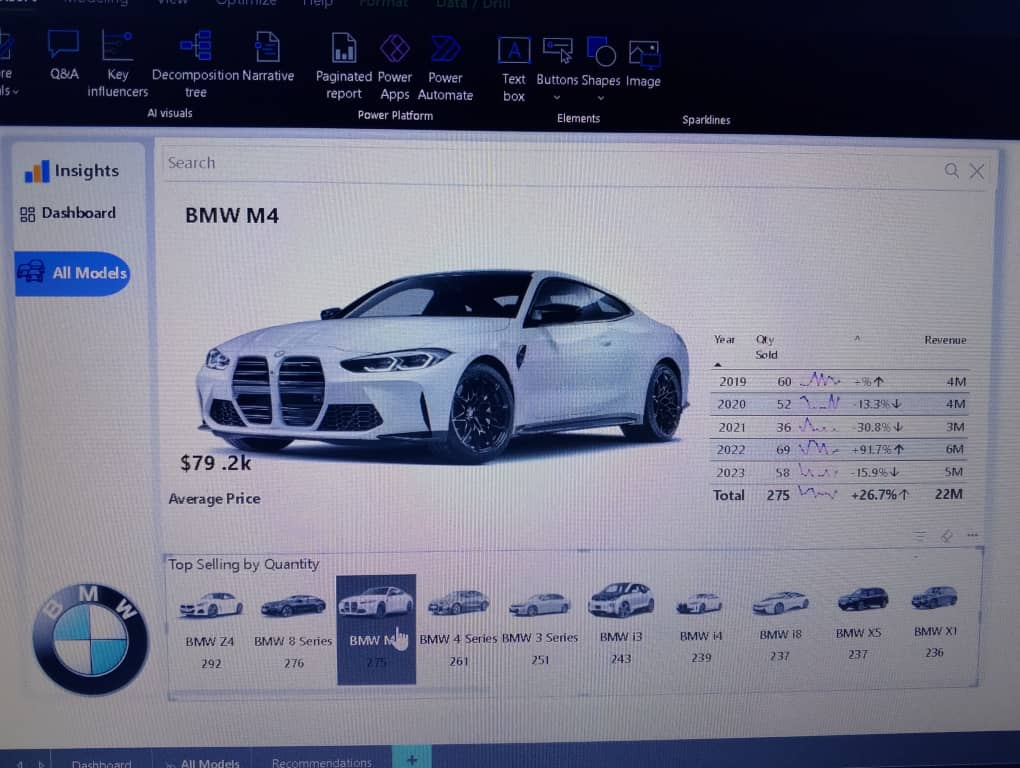

What the dashboard file says about the page in this screenshot:
{"tool":"powerbi","page":{"name":"All Models","canvas":[1280,720],"ordinal":1},"visuals":[{"type":"textSearchSlicerF85E2E78BE4A4D7D9F99ED75B5D71C85","fields":{"fields":["dimModel.Model"]},"box":[188.2,0,1082.9,50],"z":0},{"type":"advancedSlicerVisual","title":"Top Selling by Quantity ","fields":{"Values":["dimModel.Model"]},"box":[188.2,525,1082.9,194.7],"z":1000},{"type":"advancedSlicerVisual","title":"Top Selling by Quantity ","fields":{"Values":["dimModel.Model"]},"box":[188.2,50,720.7,475.3],"z":2000},{"type":"shape","box":[190.6,59.6,225.2,59.6],"z":3000},{"type":"shape","box":[159.2,385.5,194.7,40.8],"z":4000},{"type":"textbox","box":[190.8,435.5,152.6,47.4],"z":5000},{"type":"tableEx","title":"Qty Sold by Countries","fields":{"Values":["Calender.Year","All Measures.Quantity","All Measures.Quantity Sparkline","All Measures.Growth % with Arrow","All Measures.Revenue"]},"box":[883.9,190.6,387.2,334.8],"z":6000},{"type":"textbox","box":[52.6,150,127.6,57.9],"z":7000},{"type":"image","box":[9.2,140.8,43.4,50],"z":8000},{"type":"textbox","box":[40.8,75,118.4,42.1],"z":9000},{"type":"image","box":[9.2,80.3,39.5,31.6],"z":10000},{"type":"actionButton","box":[10.5,72.4,140.8,46.1],"z":11000},{"type":"actionButton","box":[0,140.8,159.2,50],"z":12000},{"type":"image","box":[0,555.3,180.3,164.5],"z":13000},{"type":"textbox","box":[58.4,20,115.8,46.1],"z":14000},{"type":"image","box":[17.6,20,50,43.4],"z":15000}]}

Visuals, with their boxes on the page's 1280x720 design canvas (x1, y1, x2, y2). These are canvas units, not pixel positions in the 1020x768 screenshot, which may show the page scaled, cropped or inside an application window:
textSearchSlicerF85E2E78BE4A4D7D9F99ED75B5D71C85 - dimModel.Model: {"x1": 188, "y1": 0, "x2": 1271, "y2": 50}
"Top Selling by Quantity " advancedSlicerVisual: {"x1": 188, "y1": 525, "x2": 1271, "y2": 720}
"Top Selling by Quantity " advancedSlicerVisual: {"x1": 188, "y1": 50, "x2": 909, "y2": 525}
shape: {"x1": 191, "y1": 60, "x2": 416, "y2": 119}
shape: {"x1": 159, "y1": 386, "x2": 354, "y2": 426}
textbox: {"x1": 191, "y1": 436, "x2": 343, "y2": 483}
"Qty Sold by Countries" tableEx: {"x1": 884, "y1": 191, "x2": 1271, "y2": 525}
textbox: {"x1": 53, "y1": 150, "x2": 180, "y2": 208}
image: {"x1": 9, "y1": 141, "x2": 53, "y2": 191}
textbox: {"x1": 41, "y1": 75, "x2": 159, "y2": 117}
image: {"x1": 9, "y1": 80, "x2": 49, "y2": 112}
actionButton: {"x1": 10, "y1": 72, "x2": 151, "y2": 118}
actionButton: {"x1": 0, "y1": 141, "x2": 159, "y2": 191}
image: {"x1": 0, "y1": 555, "x2": 180, "y2": 720}
textbox: {"x1": 58, "y1": 20, "x2": 174, "y2": 66}
image: {"x1": 18, "y1": 20, "x2": 68, "y2": 63}
